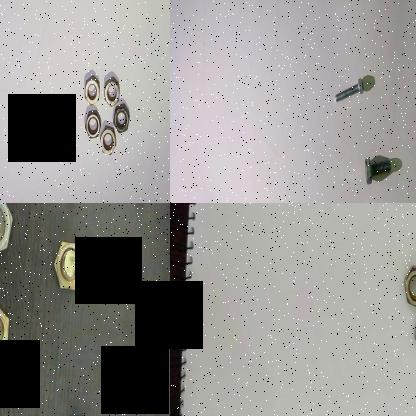Bolts: (52, 232, 92, 298), (332, 71, 370, 105), (360, 148, 392, 188), (0, 203, 14, 262), (0, 302, 13, 360)
NUTS: (402, 260, 416, 310), (97, 123, 117, 157), (82, 108, 102, 141), (111, 100, 129, 136), (82, 74, 100, 107), (102, 76, 119, 108)
